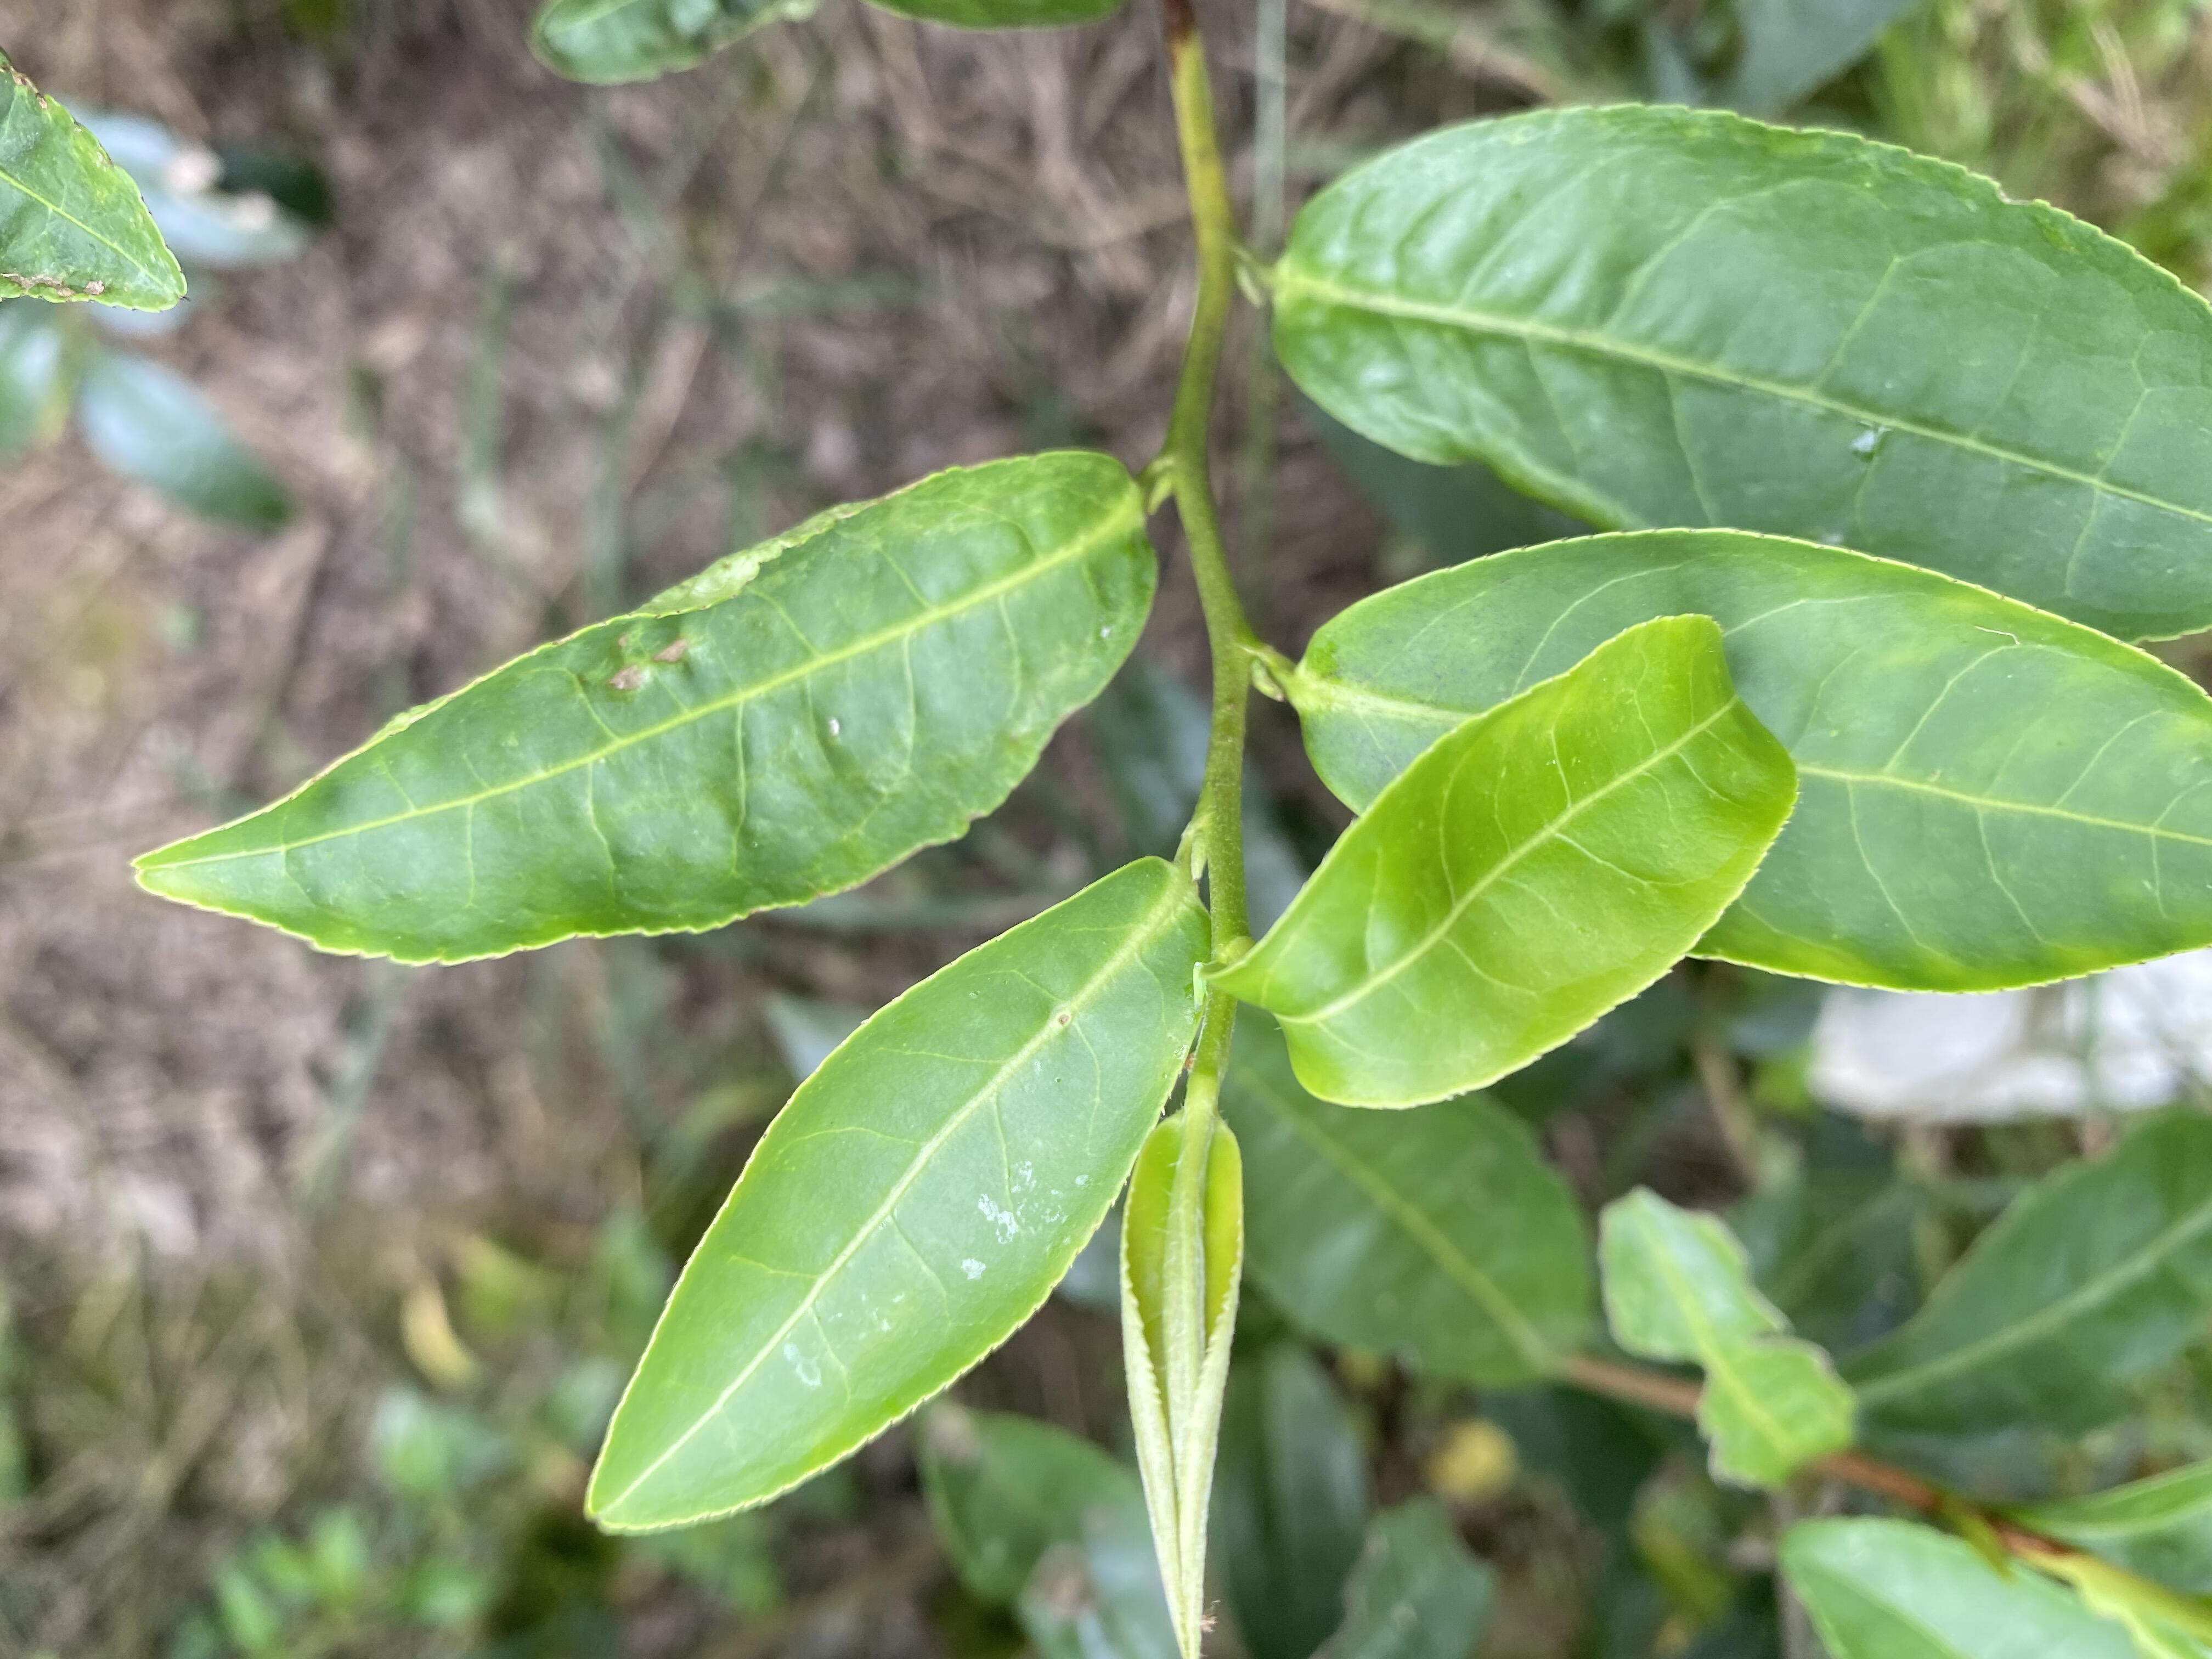healthy: (1266, 101, 2209, 647), (1285, 525, 2212, 997), (582, 856, 1209, 1534), (1202, 612, 1799, 1114)
tanju_low: (127, 448, 1160, 971)
